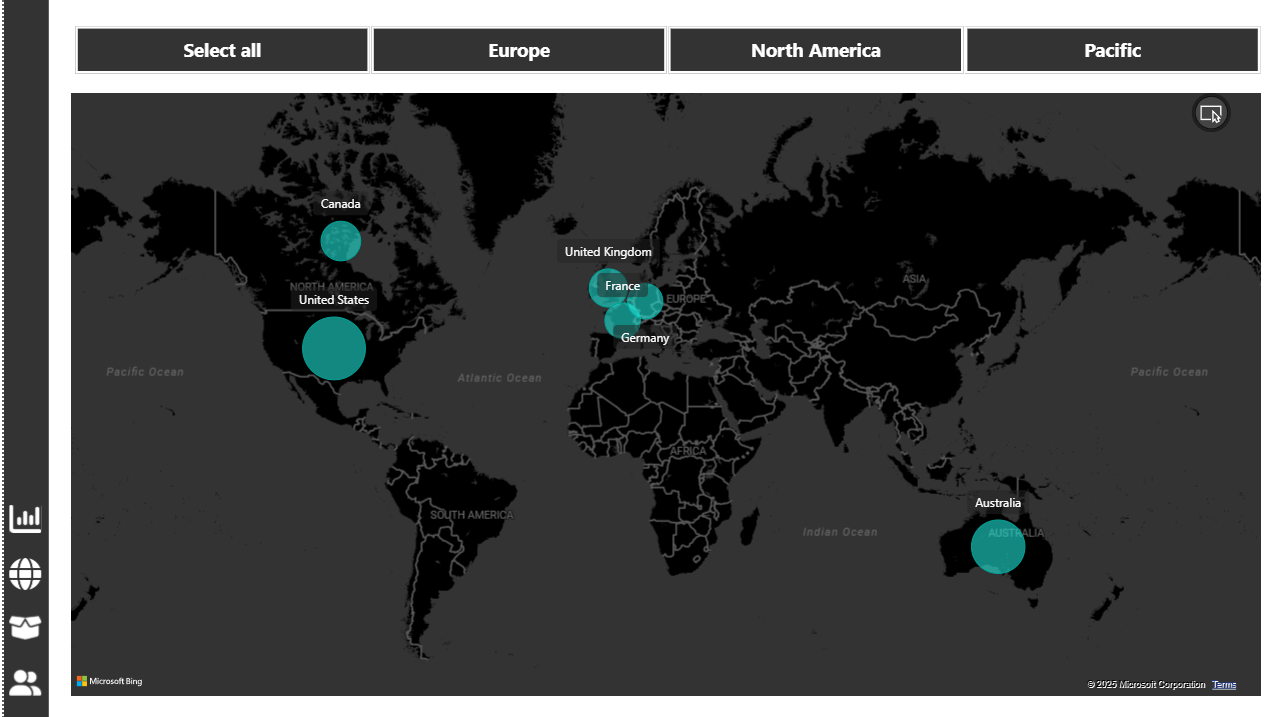

This screenshot's page, from the dashboard's own definition file:
{"tool":"powerbi","page":{"name":"Map","canvas":[1280,720],"ordinal":33},"visuals":[{"type":"shape","box":[0,0,45,720],"z":0},{"type":"map","fields":{"Category":["Territory Lookup.Country"],"Size":["Measure Table.Total Orders"]},"box":[62.4,89.3,1199.6,612.6],"z":1000},{"type":"slicer","fields":{"Values":["Territory Lookup.Continent"]},"box":[45.2,19.6,1235.1,61.1],"z":2000},{"type":"actionButton","box":[1,500,46,40],"z":2001},{"type":"actionButton","box":[1,554.7,46,40],"z":2002},{"type":"actionButton","box":[1,609.3,46,40],"z":2003},{"type":"actionButton","box":[1,664,46,40],"z":2004}]}

Visuals, with their boxes in screenshot pixels (x1, y1, x2, y2):
shape: [0,3,44,712]
map - Territory Lookup.Country x Measure Table.Total Orders: [61,91,1242,694]
slicer - Territory Lookup.Continent: [44,23,1260,83]
actionButton: [1,495,46,535]
actionButton: [1,549,46,588]
actionButton: [1,603,46,642]
actionButton: [1,657,46,696]
